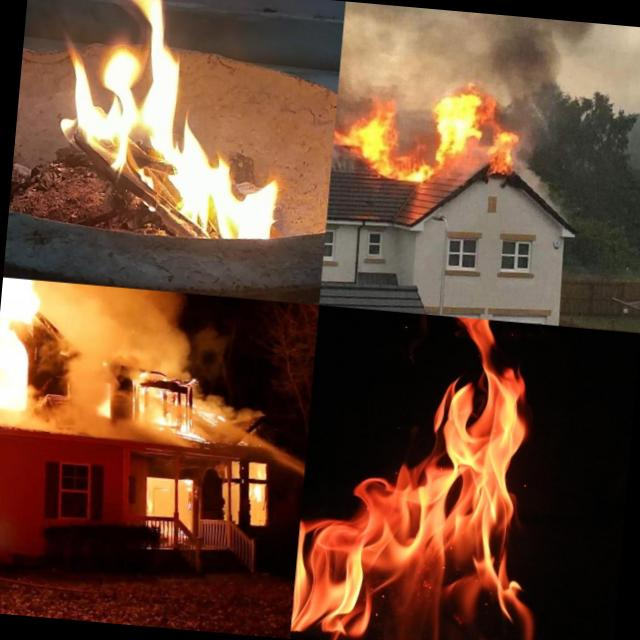fire: (289, 304, 572, 640), (44, 0, 297, 246), (334, 87, 515, 196), (0, 277, 40, 332)
smoke: (18, 278, 198, 372), (338, 1, 496, 100), (488, 15, 610, 138), (59, 361, 128, 445), (0, 388, 62, 446)
